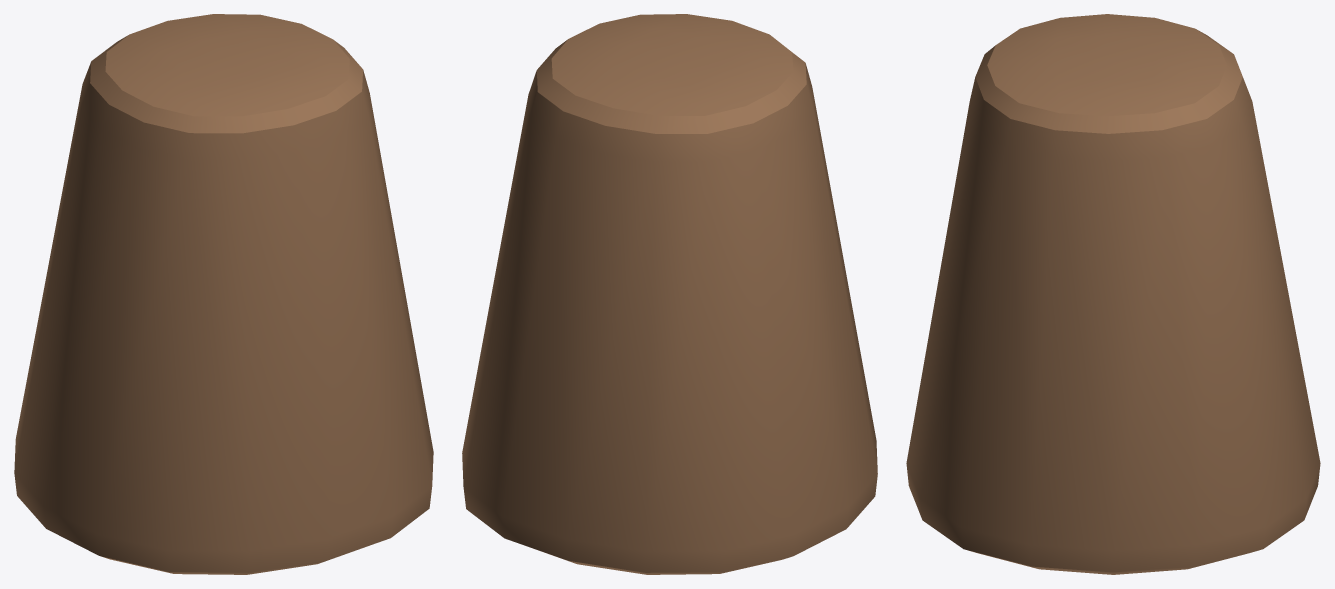
Rendered from rockplatform_tall.glb.
3 renders of one model, left to right at view 1: azimuth 30°, elevation 25°; view 2: azimuth 150°, elevation 25°; view 3: azimuth 270°, elevation 25°, orthographic.
Parts seen in each view (by area): view 1: RockPlatform_Tall; view 2: RockPlatform_Tall; view 3: RockPlatform_Tall.
Part boxes in pixels (bbox=[...]): RockPlatform_Tall: bbox=[14, 14, 433, 574]; RockPlatform_Tall: bbox=[462, 14, 877, 574]; RockPlatform_Tall: bbox=[906, 14, 1320, 574].
Size of the model in its own units: 3.58 by 4.26 by 3.58.
